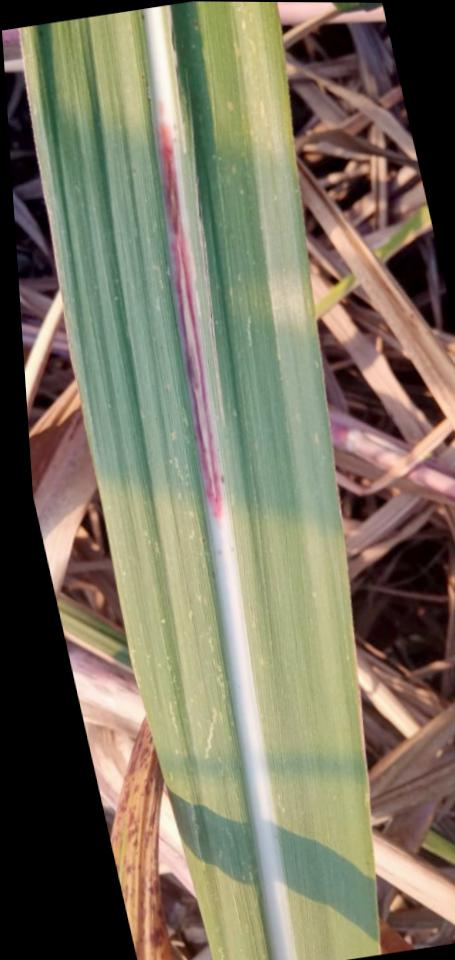RedRot: (155, 97, 223, 519)
